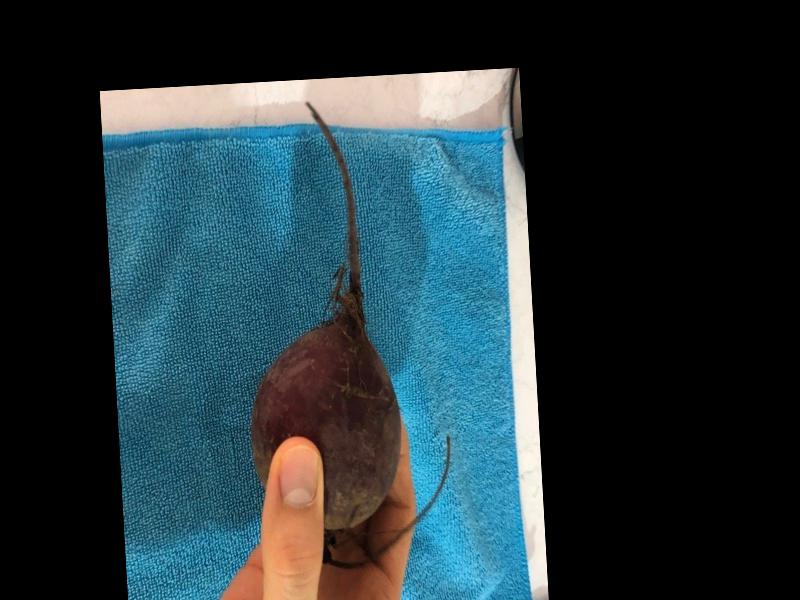Beet: (232, 93, 455, 572)
